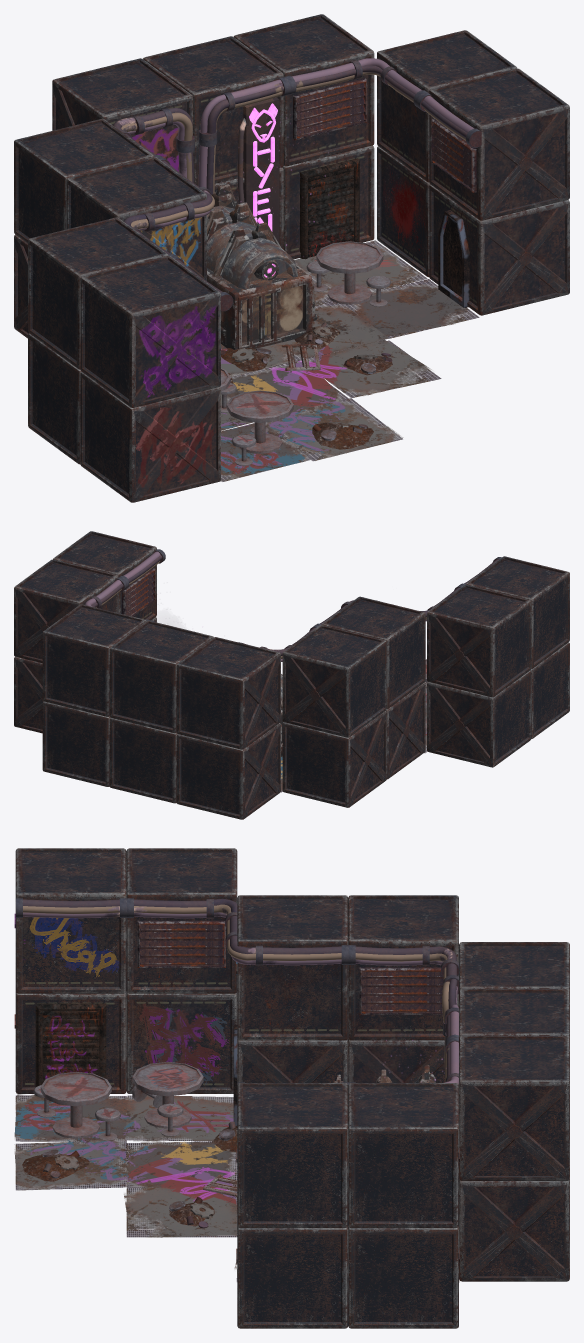
Rendered from armpit_city.glb.
3 renders of one model, top to bottom at view 1: azimuth 30°, elevation 25°; view 2: azimuth 150°, elevation 25°; view 3: azimuth 270°, elevation 25°, orthographic. The views are drawn at different scales.
Visible parts, largest first — view 1: SlumUnit17, SlumGenirator, SlumUnit1, SlumUnit18, SlumUnit2, SlumUnit15, SlumUnit11, SlumUnit3, SlumUnit13, SlumUnit5, SlumUnit7, SlumUnit9 (+31 smaller); view 2: SlumUnit15, SlumUnit11, SlumUnit9, SlumUnit12, SlumUnit16, SlumUnit10, SlumUnit7, SlumUnit5, SlumUnit3, SlumUnit13, SlumUnit17, SlumUnit8 (+8 smaller); view 3: SlumUnit1, SlumUnit3, SlumUnit5, SlumUnit17, SlumUnit13, SlumUnit2, SlumUnit4, SlumUnit6, SlumUnit15, SlumUnit11, SlumUnit16, SlumRDoor2 (+24 smaller).
Part boxes in pixels (left/top/right/bottom): SlumUnit17: left=80, top=255, right=220, bottom=407; SlumGenirator: left=207, top=97, right=320, bottom=370; SlumUnit1: left=429, top=68, right=569, bottom=220; SlumUnit18: left=80, top=372, right=220, bottom=502; SlumUnit2: left=429, top=184, right=569, bottom=315; SlumUnit15: left=28, top=217, right=168, bottom=369; SlumUnit11: left=14, top=118, right=154, bottom=243; SlumUnit3: left=377, top=30, right=517, bottom=182; SlumUnit13: left=66, top=157, right=206, bottom=280; SlumUnit5: left=233, top=14, right=374, bottom=166; SlumUnit7: left=143, top=36, right=283, bottom=186; SlumUnit9: left=52, top=58, right=192, bottom=171; SlumUnit15: left=427, top=584, right=531, bottom=697; SlumUnit11: left=282, top=625, right=386, bottom=737; SlumUnit9: left=176, top=637, right=280, bottom=749; SlumUnit12: left=282, top=711, right=386, bottom=807; SlumUnit16: left=427, top=670, right=531, bottom=767; SlumUnit10: left=176, top=723, right=280, bottom=819; SlumUnit7: left=109, top=620, right=213, bottom=733; SlumUnit5: left=42, top=604, right=146, bottom=716; SlumUnit3: left=14, top=559, right=118, bottom=663; SlumUnit13: left=321, top=596, right=425, bottom=709; SlumUnit17: left=466, top=556, right=569, bottom=668; SlumUnit8: left=109, top=718, right=177, bottom=803; SlumUnit1: left=236, top=1083, right=348, bottom=1227; SlumUnit3: left=348, top=1083, right=459, bottom=1227; SlumUnit5: left=459, top=1036, right=569, bottom=1180; SlumUnit17: left=14, top=848, right=126, bottom=993; SlumUnit13: left=236, top=895, right=348, bottom=1040; SlumUnit2: left=236, top=1226, right=348, bottom=1328; SlumUnit4: left=348, top=1226, right=459, bottom=1328; SlumUnit6: left=459, top=1178, right=569, bottom=1281; SlumUnit15: left=126, top=848, right=237, bottom=993; SlumUnit11: left=348, top=895, right=458, bottom=1040; SlumUnit16: left=126, top=991, right=237, bottom=1093; SlumRDoor2: left=35, top=1003, right=106, bottom=1086.
Bounding box in the file's own units: 10.69 × 4.47 × 8.93.
4 materials, 4 textured.
